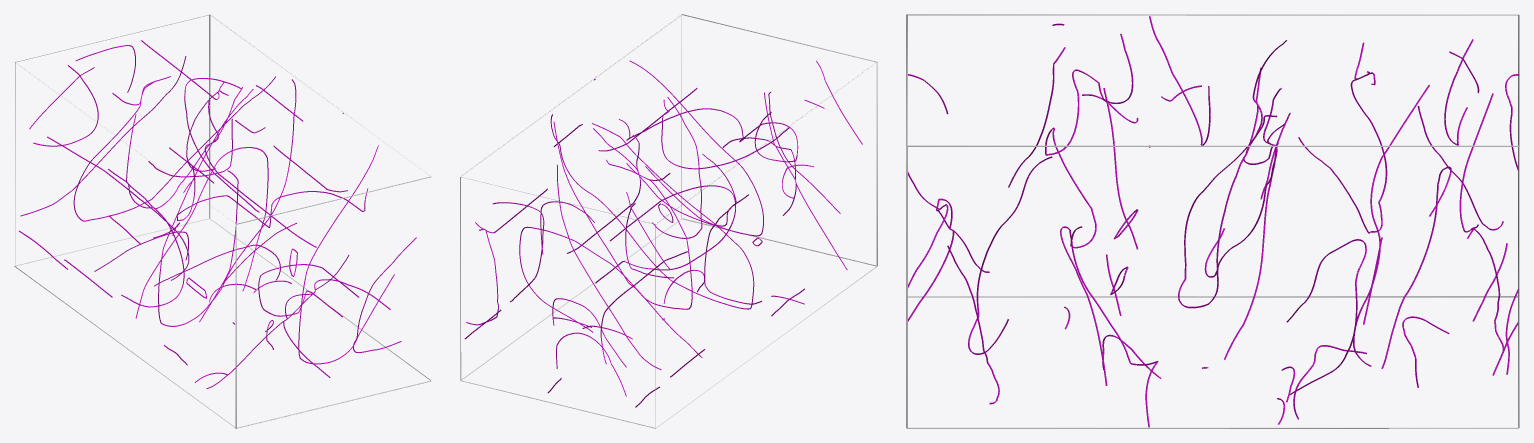
The picture shows the model from 3 angles, left to right: view 1: azimuth 30°, elevation 25°; view 2: azimuth 150°, elevation 25°; view 3: azimuth 270°, elevation 25°; orthographic projection. The views are drawn at different scales.
Parts seen in each view (by area): view 1: Shape_IndexedLineSet.001, Shape_IndexedLineSet; view 2: Shape_IndexedLineSet.001, Shape_IndexedLineSet; view 3: Shape_IndexedLineSet.001, Shape_IndexedLineSet.
Boxes of the visible parts, x1,y1,x2,y2 form: Shape_IndexedLineSet.001: (19, 40, 416, 388); Shape_IndexedLineSet: (14, 14, 431, 428); Shape_IndexedLineSet.001: (464, 60, 862, 407); Shape_IndexedLineSet: (460, 14, 877, 428); Shape_IndexedLineSet.001: (908, 16, 1519, 427); Shape_IndexedLineSet: (906, 14, 1519, 428).
Bounding box in the file's own units: 235 × 235 × 461.
